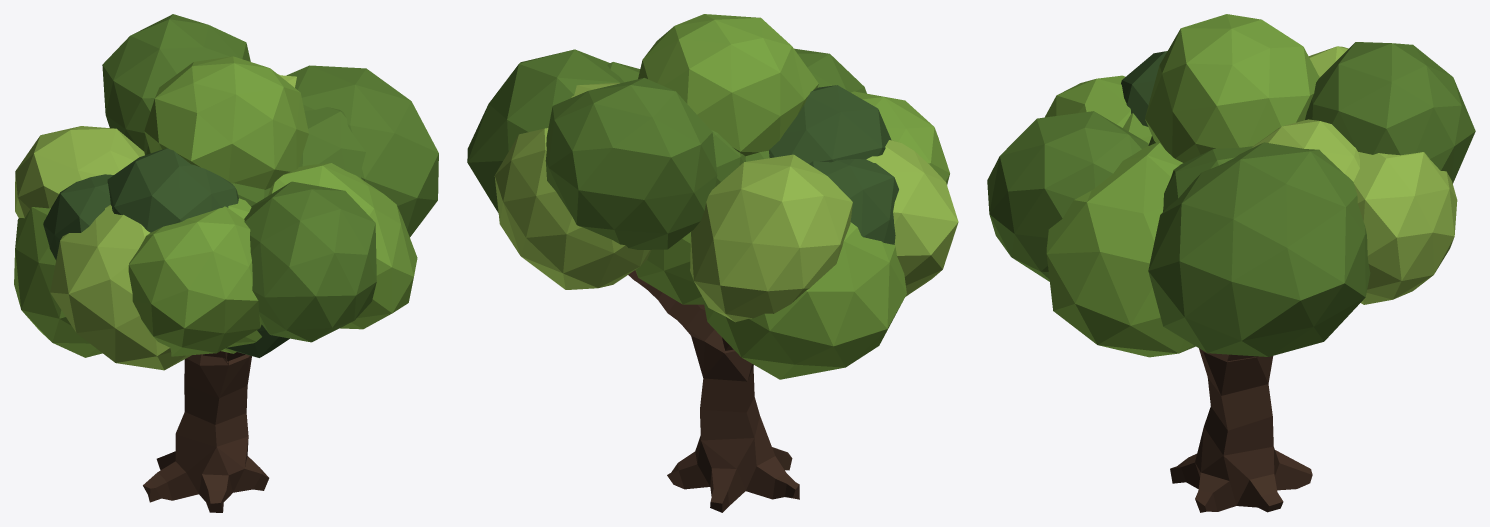
The model's file is SM_Tree_Oak_Green_02.glb.
The picture shows the model from 3 angles, left to right: view 1: azimuth 30°, elevation 25°; view 2: azimuth 150°, elevation 25°; view 3: azimuth 270°, elevation 25°; orthographic projection. The views are drawn at different scales.
Visible parts, largest first — view 1: SM_Tree_Oak_Green_02; view 2: SM_Tree_Oak_Green_02; view 3: SM_Tree_Oak_Green_02.
Boxes of the visible parts, left/top/right/bottom form: SM_Tree_Oak_Green_02: left=14, top=14, right=438, bottom=512; SM_Tree_Oak_Green_02: left=467, top=14, right=958, bottom=512; SM_Tree_Oak_Green_02: left=987, top=14, right=1475, bottom=512.
Bounding box in the file's own units: 4.05 × 4.15 × 3.87.
